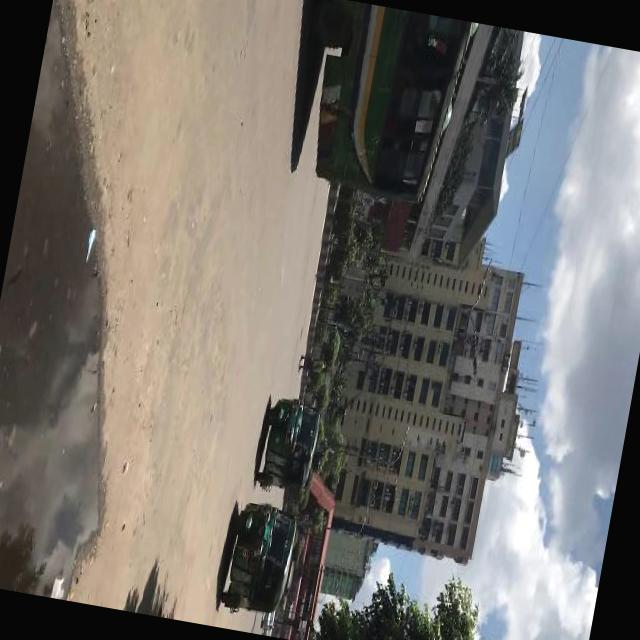bus: (292, 0, 480, 207)
motorcycle: (215, 494, 301, 622), (252, 392, 324, 494)
